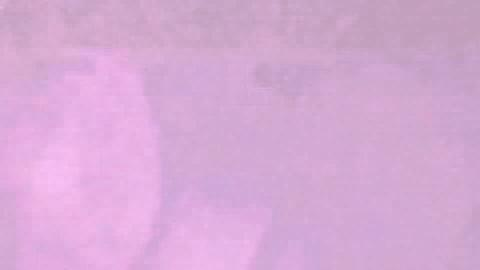tomato: (3, 101, 254, 268), (256, 113, 478, 268)
